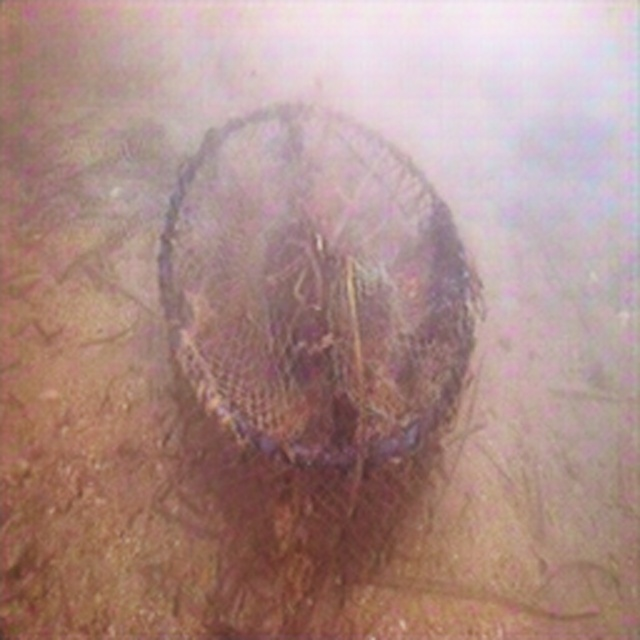mine: (158, 102, 477, 578)
